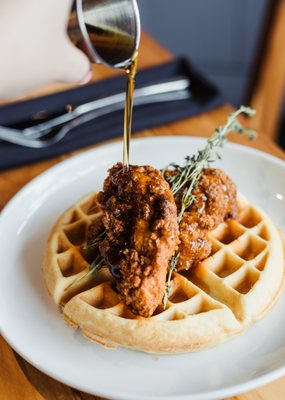curry: (1, 12, 285, 398)
sandwich: (72, 0, 143, 169)
